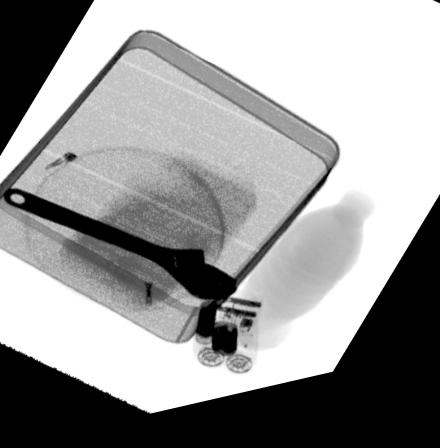Wrench: (0, 187, 238, 312)
